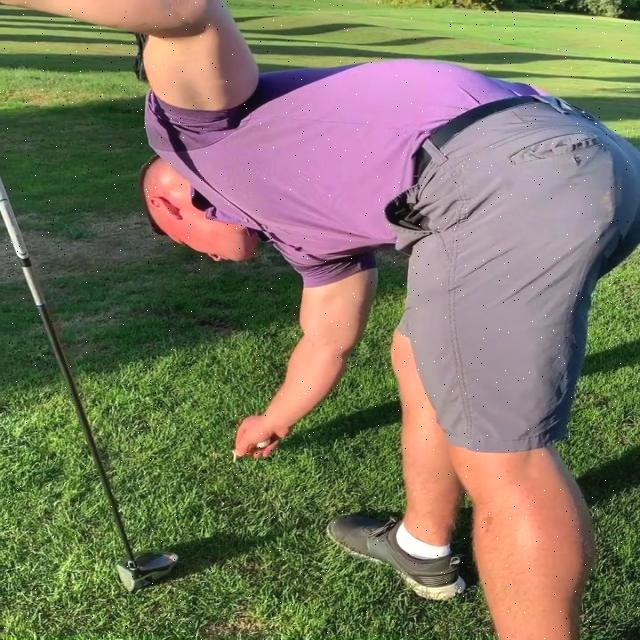golf club-handle: (1, 176, 194, 605)
golf club-head: (114, 550, 183, 594)
